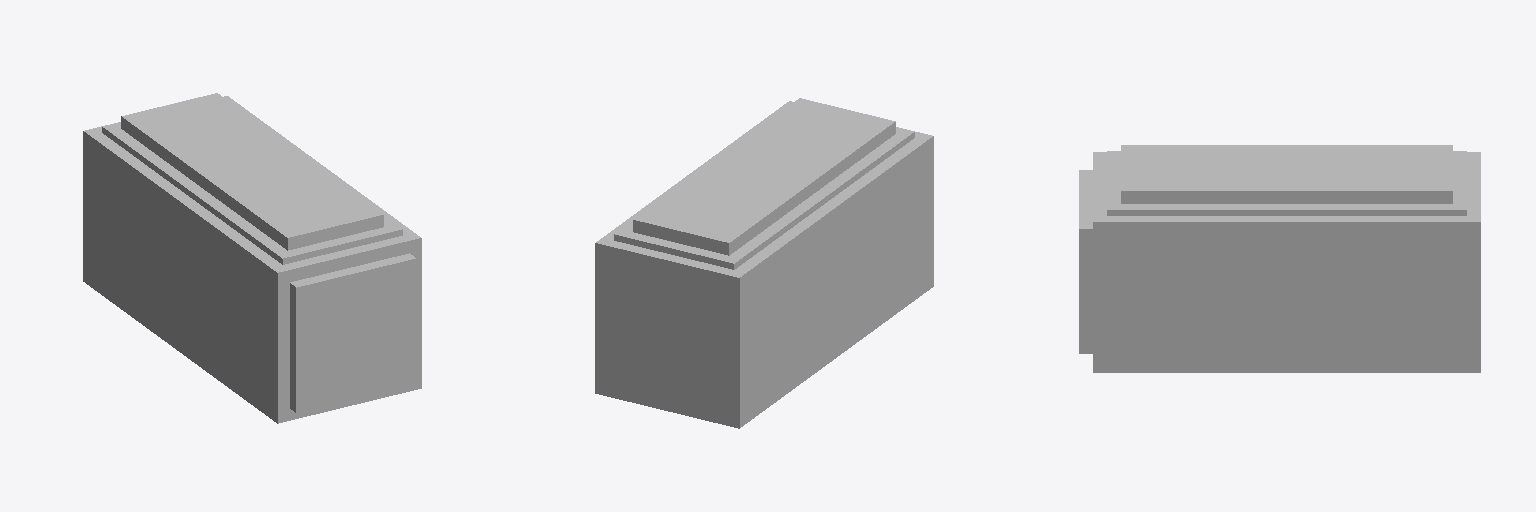
Rendered from i3vanilla.obj.
3 views of the same model, side by side, from view 1: azimuth 30°, elevation 25°; view 2: azimuth 150°, elevation 25°; view 3: azimuth 270°, elevation 25° (orthographic).
Visible parts, largest first — view 1: cube; view 2: cube; view 3: cube.
Boxes of the visible parts, <box> form: cube: <box>83,93,421,423</box>; cube: <box>595,98,933,428</box>; cube: <box>1079,145,1480,372</box>.
Bounding box in the file's own units: 0.3 × 0.35 × 0.725.